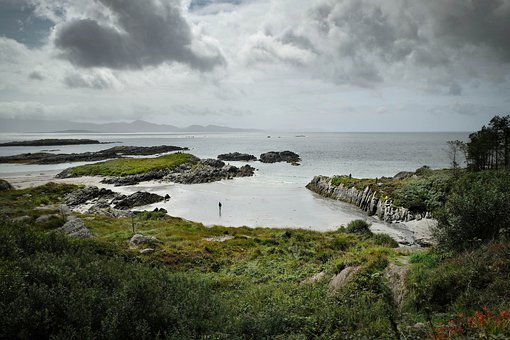forest: (7, 209, 503, 339)
sea: (14, 131, 466, 218)
sky: (3, 5, 497, 133)
